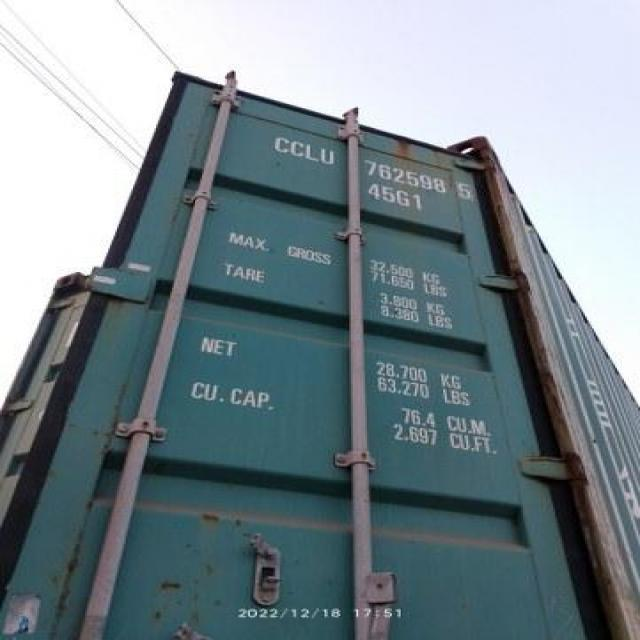ISO: (362, 177, 438, 215)
container_number: (272, 120, 479, 197)
